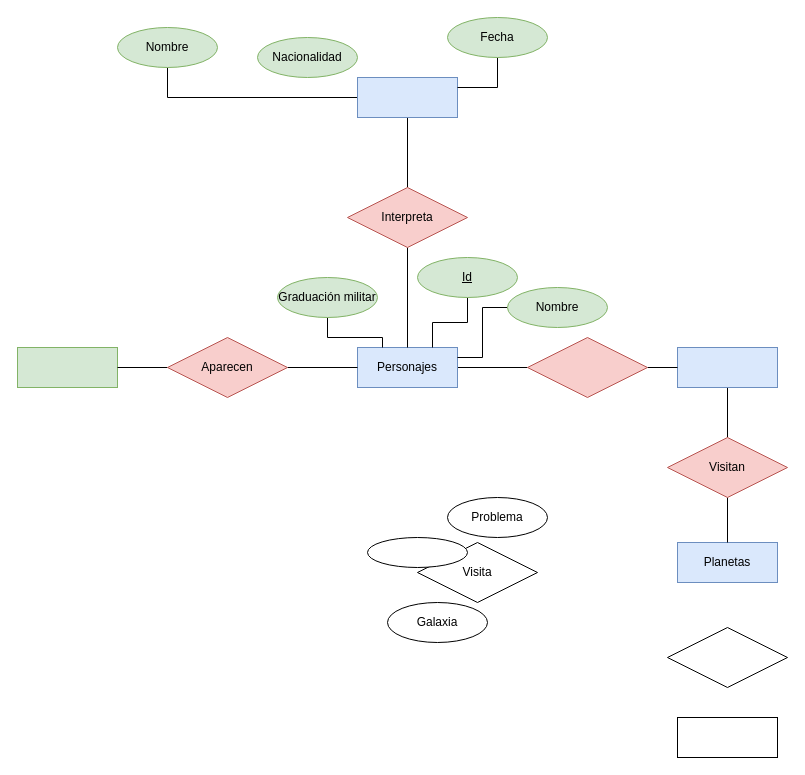
This 805x775 diagram has some shape labels left out. The centre of each missing label's shape, as x and y in pixels:
"Actores" goes at point 407,97.
"Capítulos" goes at point 727,367.
"Código" goes at point 417,552.
"Nave" goes at point 727,737.
"Participan" goes at point 587,367.
"Películas" goes at point 67,367.
"Relationship" goes at point 727,657.
